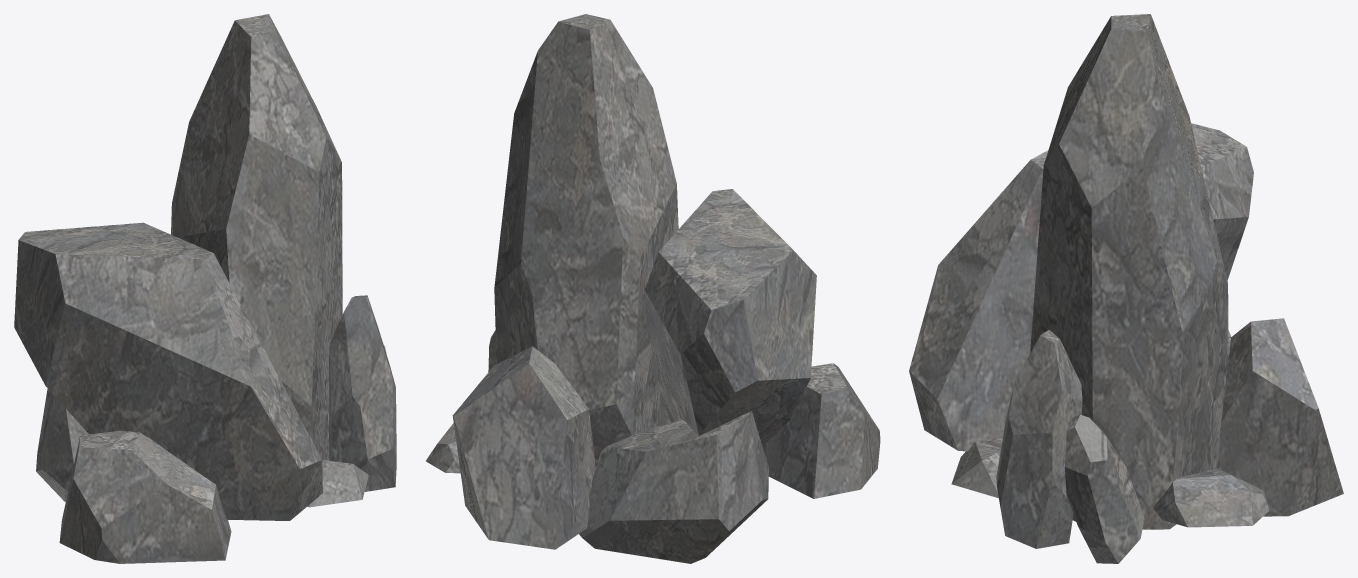
File: rockC.fbx
The picture shows the model from 3 angles, left to right: view 1: azimuth 30°, elevation 25°; view 2: azimuth 150°, elevation 25°; view 3: azimuth 270°, elevation 25°; orthographic projection. The views are drawn at different scales.
Parts seen in each view (by area): view 1: Cluster02; view 2: Cluster02; view 3: Cluster02.
Part boxes in pixels (x1,y1,x2,y2): Cluster02: (14, 14, 396, 563); Cluster02: (426, 14, 880, 563); Cluster02: (909, 14, 1343, 563).
Bounding box in the file's own units: 112 × 146 × 112.
1 material, 1 textured.
